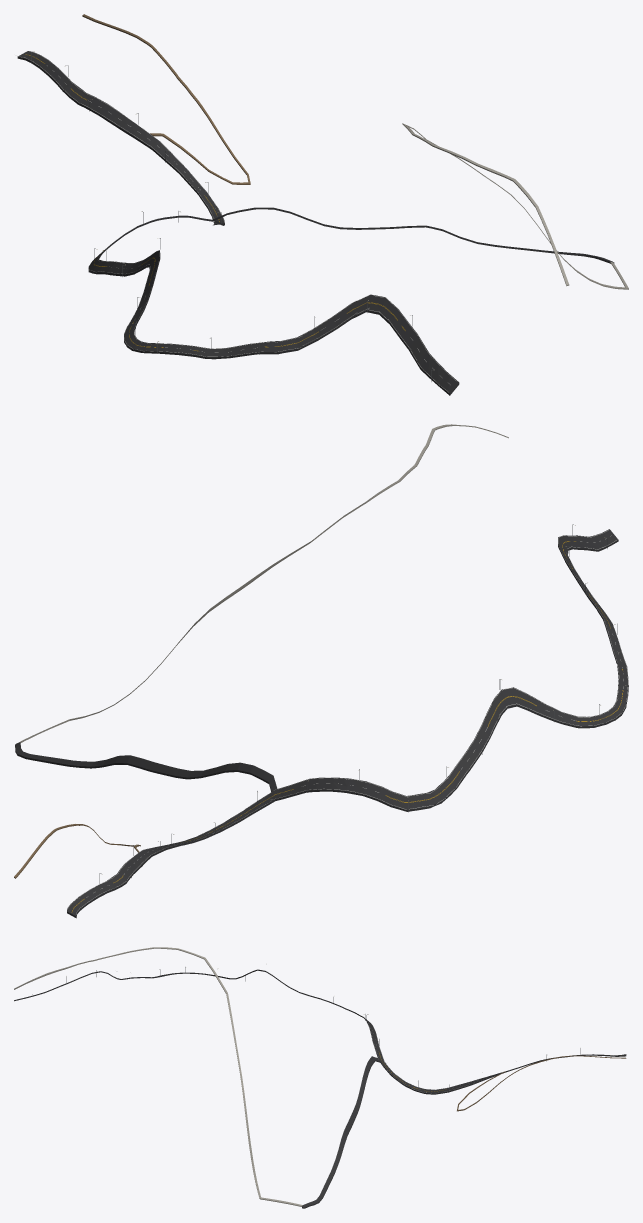
3 views of the same model, one above another, from view 1: azimuth 30°, elevation 25°; view 2: azimuth 150°, elevation 25°; view 3: azimuth 270°, elevation 25° (orthographic). The views are drawn at different scales.
Size of the model in its own units: 376 by 180 by 585.
